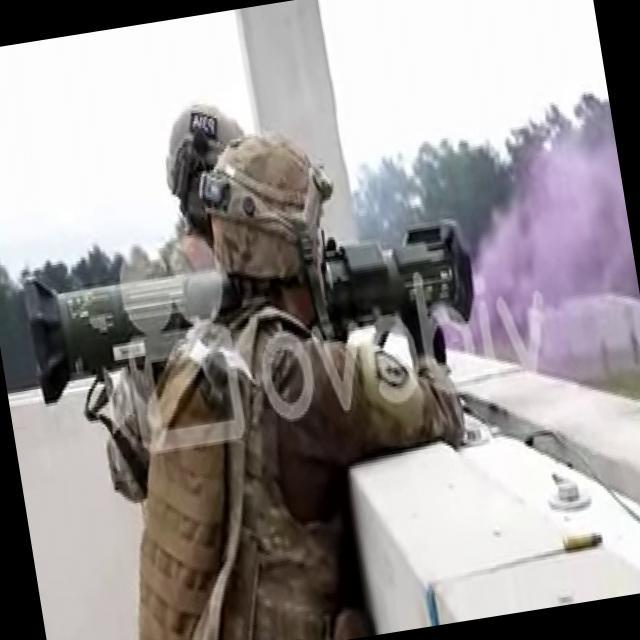rocket: (19, 211, 483, 402)
